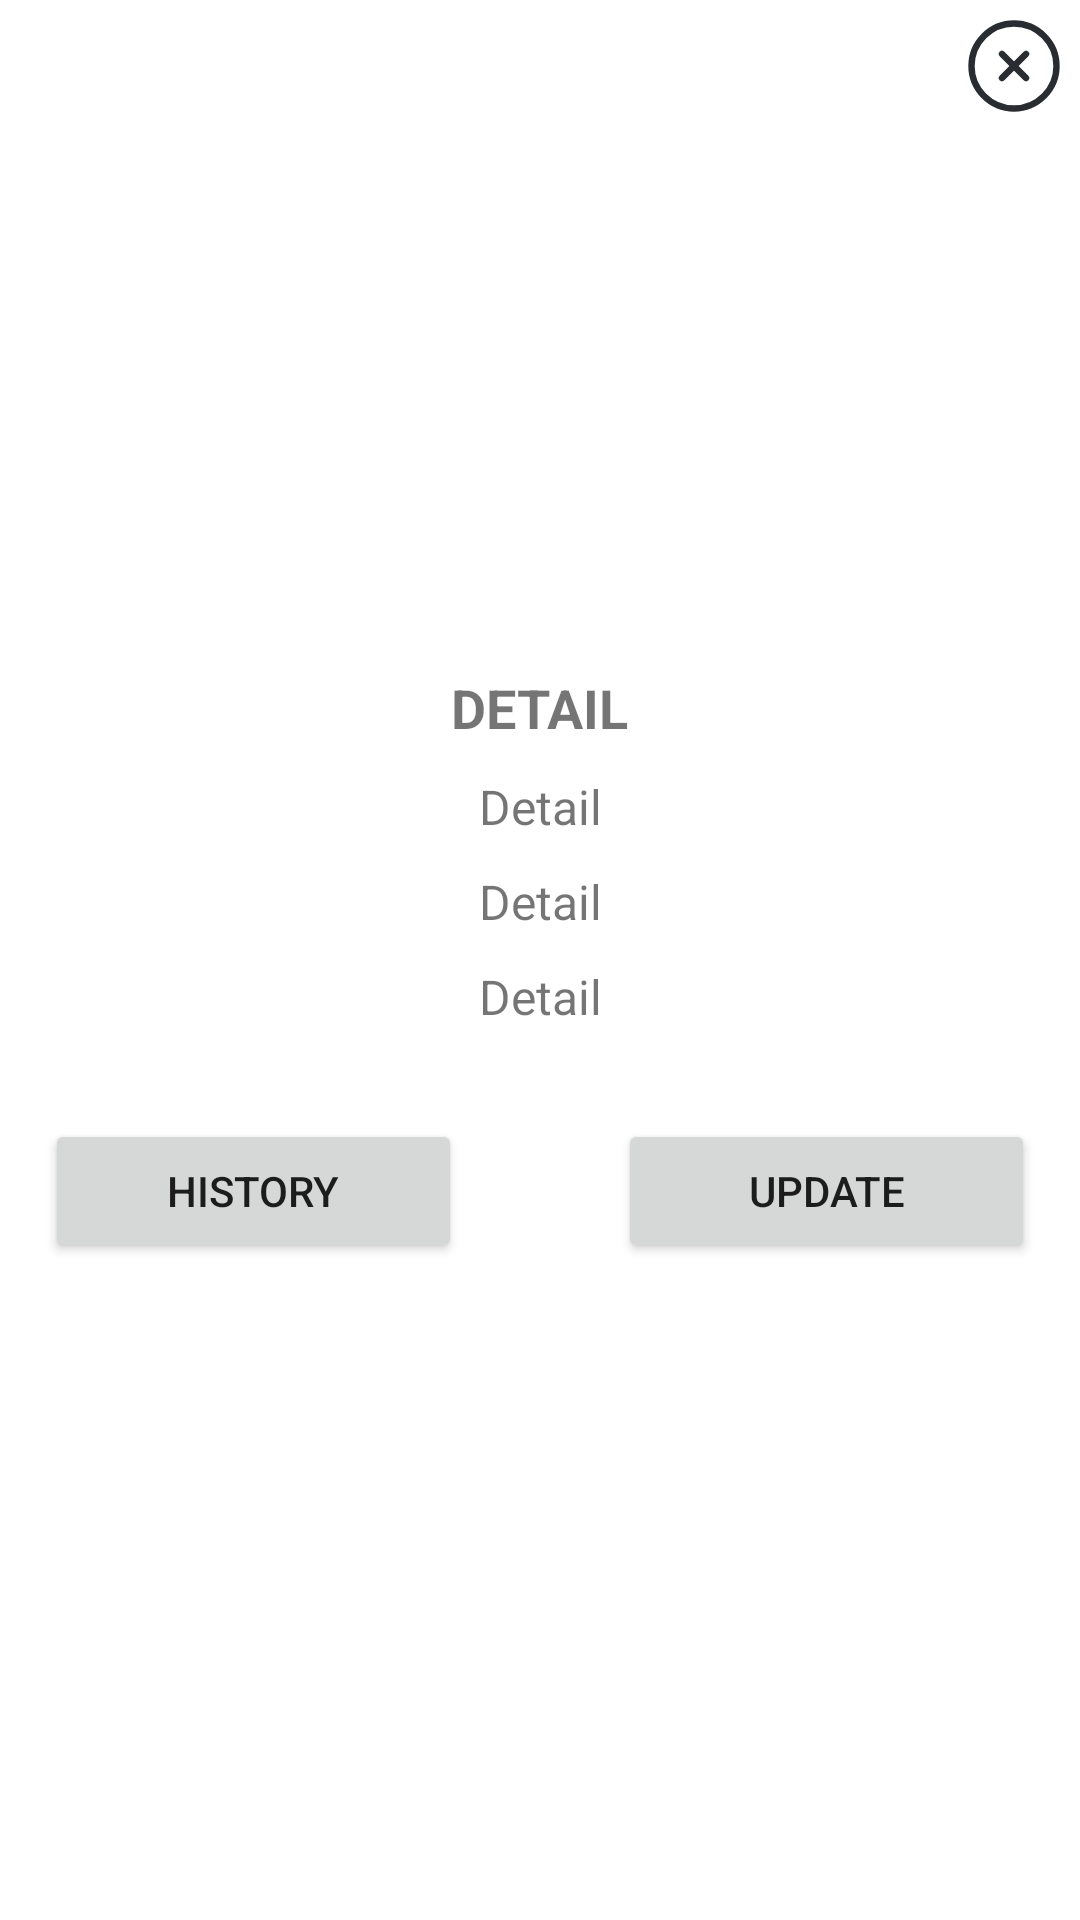

Named icons in this screenshot (1080×1920) and their bounding boxes, bbox=(x1, y1, x2, y2):
use for close dialoge: bbox=(968, 20, 1060, 112)
